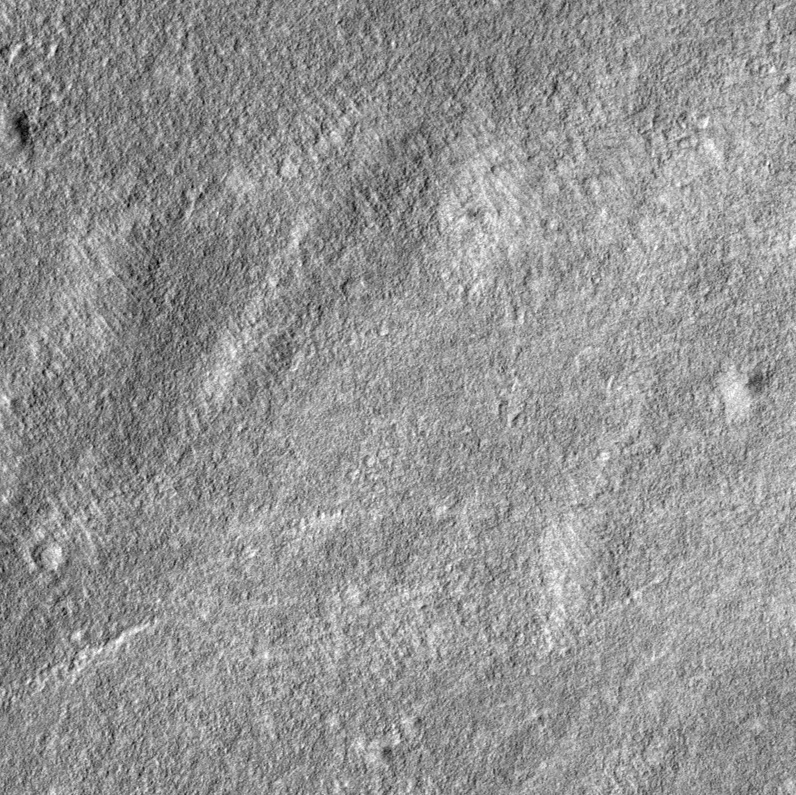dust_devil: (715, 362, 782, 425)
